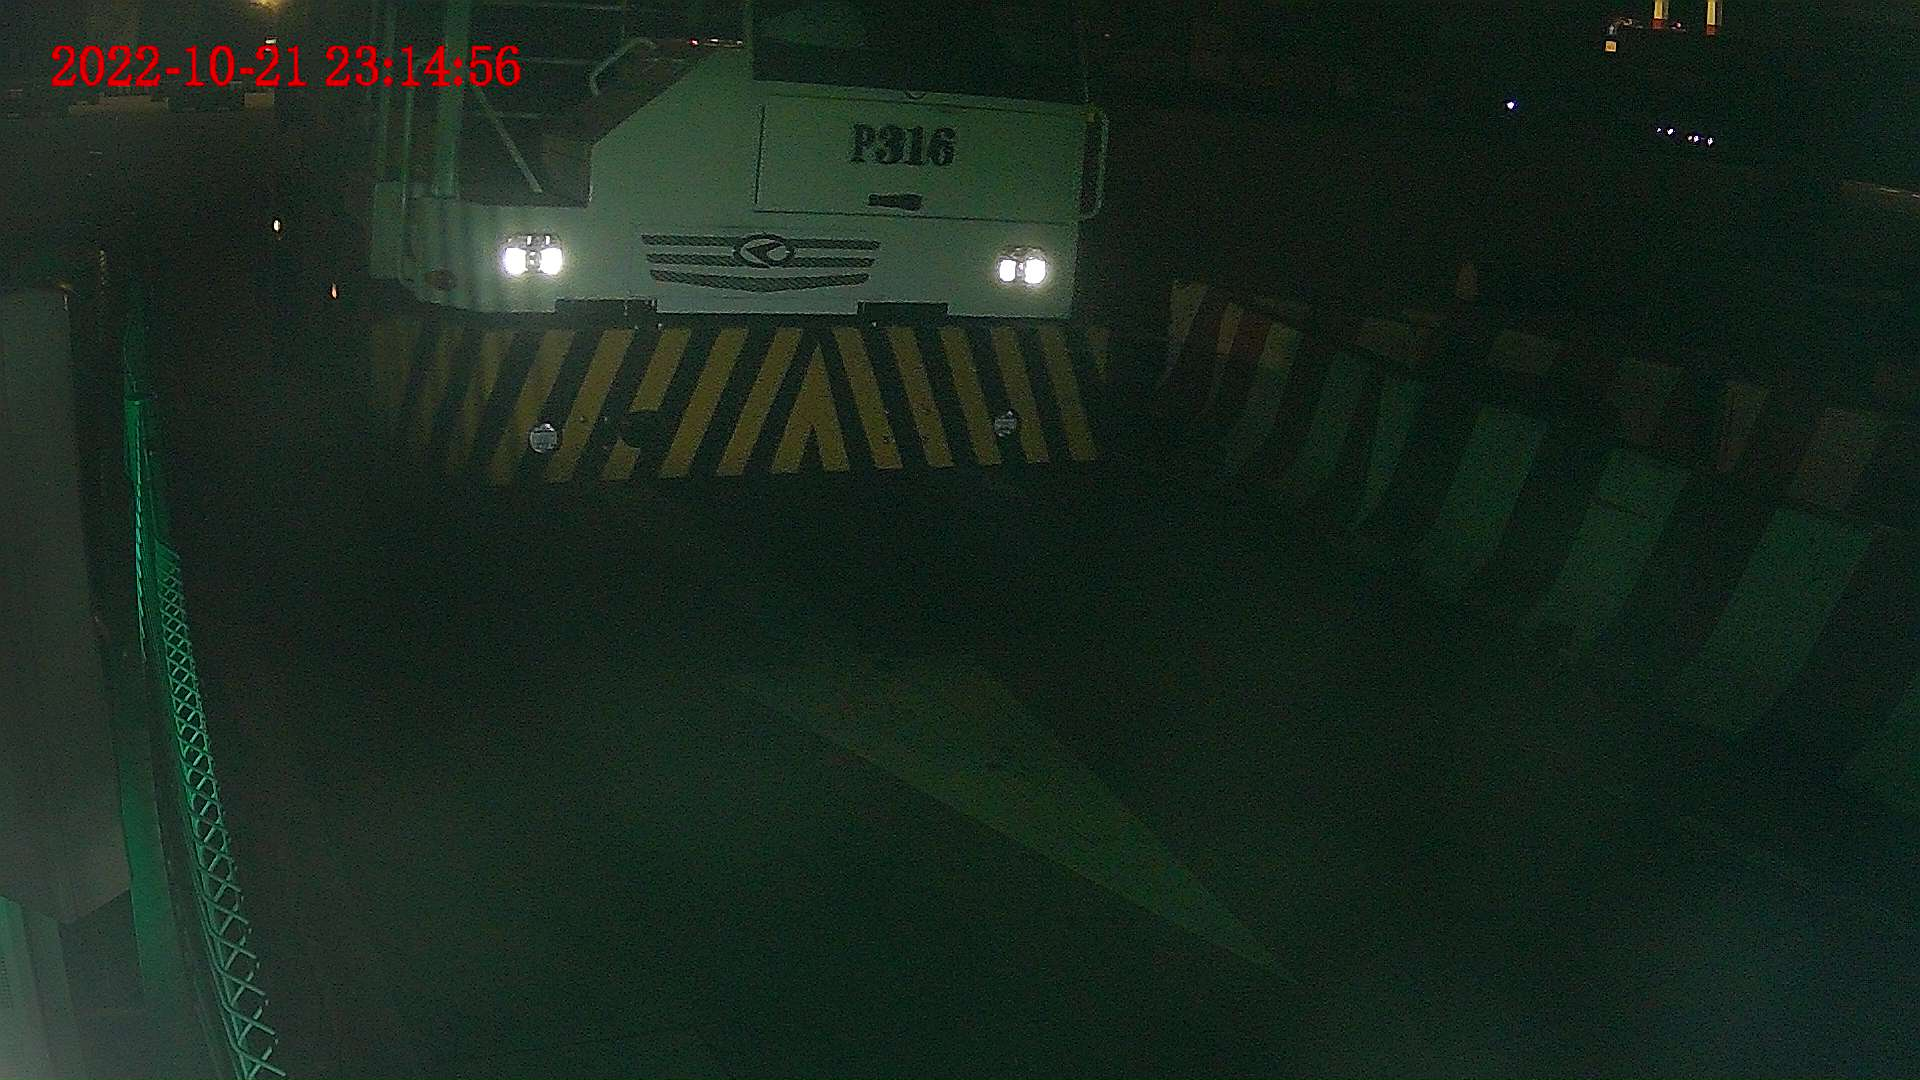head: (259, 1, 1113, 507)
